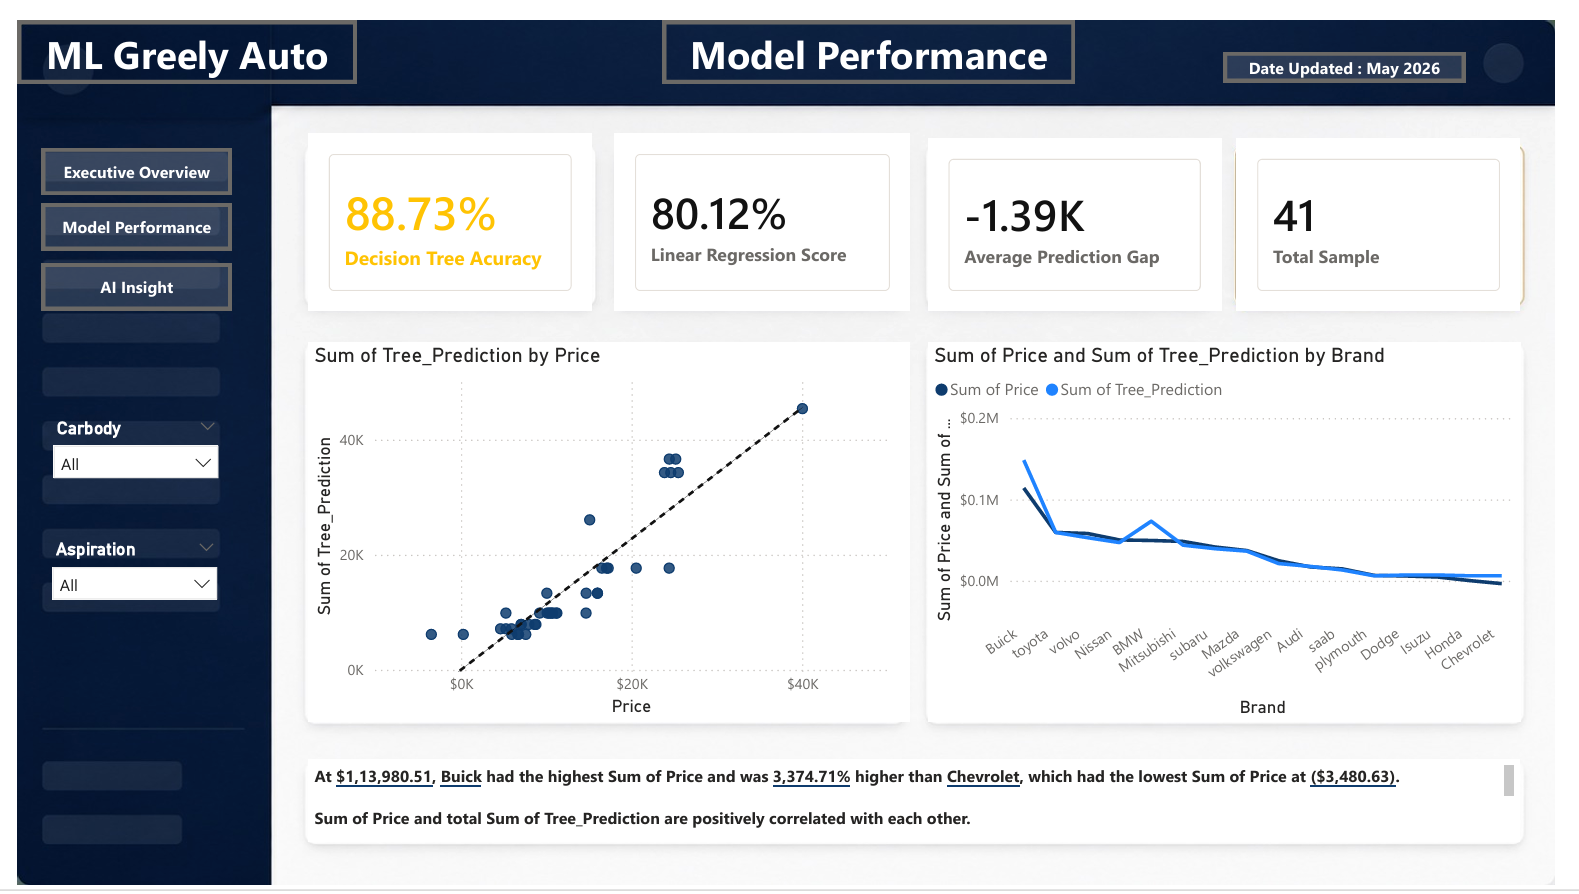

What the dashboard file says about the page in this screenshot:
{"tool":"powerbi","page":{"name":"Model Performance","canvas":[1280,720],"ordinal":1},"visuals":[{"type":"cardVisual","fields":{"Data":["Car_Price_Final_Labels.Linear Regression Score"]},"box":[497,94.5,245.7,147.4],"z":0},{"type":"cardVisual","fields":{"Data":["Car_Price_Final_Labels.Decision Tree Acuracy"]},"box":[241.9,94.5,236.2,147.4],"z":1000},{"type":"cardVisual","fields":{"Data":["CountNonNull(Car_Price_Final_Labels.curbweight)"]},"box":[1014.8,98.3,236.2,143.6],"z":2000},{"type":"cardVisual","fields":{"Data":["Avg(Car_Price_Final_Labels.Tree_Error)"]},"box":[757.8,98.3,243.8,143.6],"z":3000},{"type":"scatterChart","fields":{"Y":["Sum(Car_Price_Final_Labels.Tree_Prediction)"],"X":["Car_Price_Final_Labels.Price"]},"box":[241.9,268.3,500.8,315.6],"z":4000},{"type":"lineChart","fields":{"Y":["Sum(Car_Price_Final_Labels.Price)","Sum(Car_Price_Final_Labels.Tree_Prediction)"],"Category":["Car_Price_Final_Labels.Brand"]},"box":[757.8,268.3,493.2,315.6],"z":5000},{"type":"actionButton","box":[19.5,201.5,158.2,39],"z":6000},{"type":"actionButton","box":[19.5,106.2,158.2,39],"z":7000},{"type":"actionButton","box":[19.5,151.7,158.2,39],"z":8000},{"type":"actionButton","box":[0,0,281.7,52],"z":9000},{"type":"actionButton","box":[537.4,0,342.4,52],"z":10000},{"type":"slicer","fields":{"Values":["Car_Price_Final_Labels.carbody"]},"box":[19.7,325.6,157.5,68.1],"z":11000},{"type":"slicer","fields":{"Values":["Car_Price_Final_Labels.aspiration"]},"box":[18.9,427.1,156.9,69.9],"z":12000},{"type":"actionButton","box":[1003.9,25.7,201.4,25.7],"z":13000},{"type":"textbox","box":[242.3,614.8,1008.5,69.7],"z":13001}]}

Visuals, with their boxes on the page's 1280x720 design canvas (x1, y1, x2, y2). These are canvas units, not pixel positions in the 1579x894 screenshot, which may show the page scaled, cropped or inside an application window:
cardVisual - Car_Price_Final_Labels.Linear Regression Score: pyautogui.locateOnScreen(497, 94, 743, 242)
cardVisual - Car_Price_Final_Labels.Decision Tree Acuracy: pyautogui.locateOnScreen(242, 94, 478, 242)
cardVisual - CountNonNull(Car_Price_Final_Labels.curbweight): pyautogui.locateOnScreen(1015, 98, 1251, 242)
cardVisual - Avg(Car_Price_Final_Labels.Tree_Error): pyautogui.locateOnScreen(758, 98, 1002, 242)
scatterChart - Sum(Car_Price_Final_Labels.Tree_Prediction) x Car_Price_Final_Labels.Price: pyautogui.locateOnScreen(242, 268, 743, 584)
lineChart - Sum(Car_Price_Final_Labels.Price) x Sum(Car_Price_Final_Labels.Tree_Prediction): pyautogui.locateOnScreen(758, 268, 1251, 584)
actionButton: pyautogui.locateOnScreen(20, 202, 178, 240)
actionButton: pyautogui.locateOnScreen(20, 106, 178, 145)
actionButton: pyautogui.locateOnScreen(20, 152, 178, 191)
actionButton: pyautogui.locateOnScreen(0, 0, 282, 52)
actionButton: pyautogui.locateOnScreen(537, 0, 880, 52)
slicer - Car_Price_Final_Labels.carbody: pyautogui.locateOnScreen(20, 326, 177, 394)
slicer - Car_Price_Final_Labels.aspiration: pyautogui.locateOnScreen(19, 427, 176, 497)
actionButton: pyautogui.locateOnScreen(1004, 26, 1205, 51)
textbox: pyautogui.locateOnScreen(242, 615, 1251, 684)
